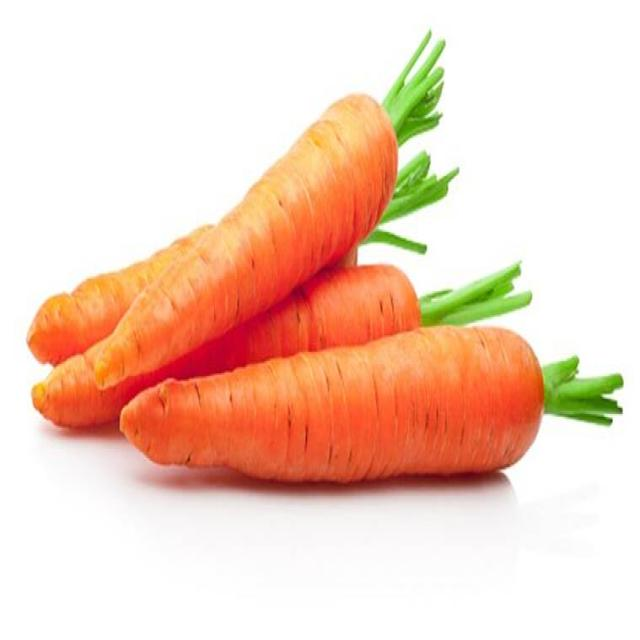Fresh_Carrot: (64, 71, 418, 409)
carrot: (117, 322, 557, 488)
